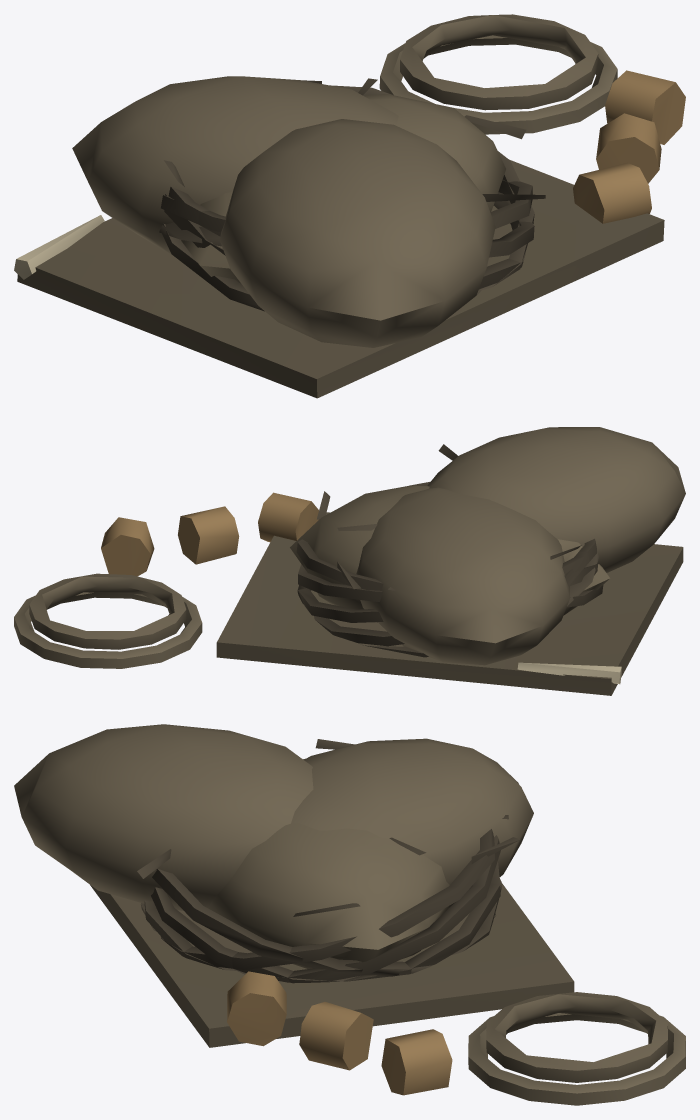
File: net_bundle_a_lod1.glb
3 views of the same model, one above another, from view 1: azimuth 30°, elevation 25°; view 2: azimuth 150°, elevation 25°; view 3: azimuth 270°, elevation 25° (orthographic). The views are drawn at different scales.
Visible parts, largest first — view 1: Surface.001; view 2: Surface.001; view 3: Surface.001.
Part boxes in pixels (bbox=[...]): Surface.001: bbox=[14, 14, 685, 398]; Surface.001: bbox=[14, 427, 685, 695]; Surface.001: bbox=[14, 724, 685, 1105].
Size of the model in its own units: 2.25 by 0.6053 by 2.1.
